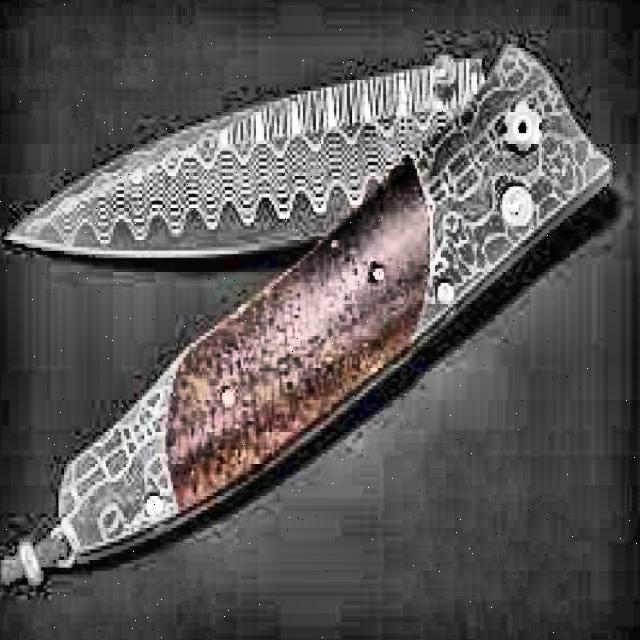knife: (1, 38, 496, 280)
